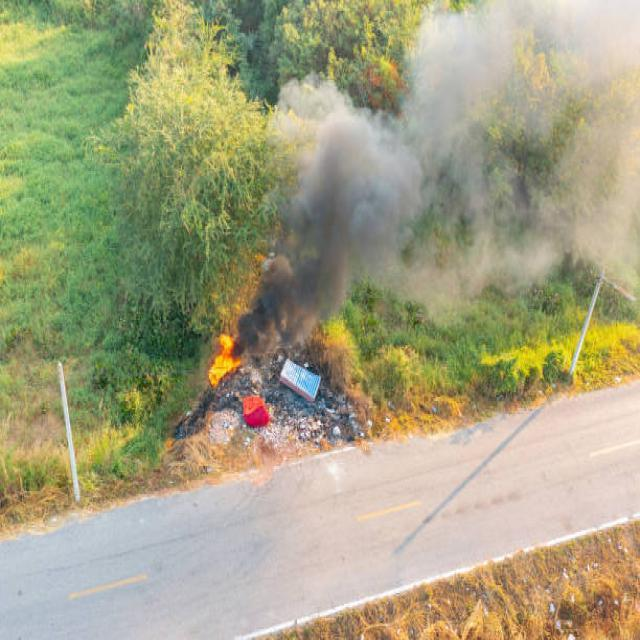Fire: (207, 333, 244, 388)
Smoke: (239, 3, 640, 360)
